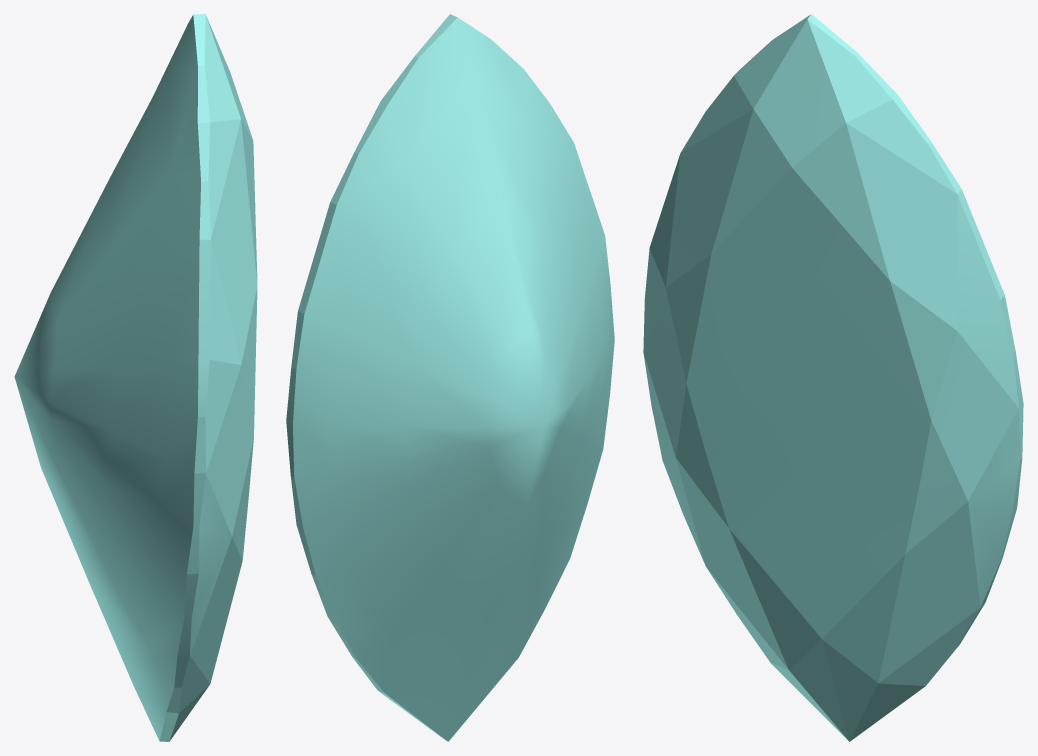
The model's file is BR4_8shapes_Marquise_Classic_Stone.001 3.glb.
The picture shows the model from 3 angles, left to right: view 1: azimuth 30°, elevation 25°; view 2: azimuth 150°, elevation 25°; view 3: azimuth 270°, elevation 25°; orthographic projection. The views are drawn at different scales.
Visible parts, largest first — view 1: BR4_8shapes_Marquise_Classic_Stone.001; view 2: BR4_8shapes_Marquise_Classic_Stone.001; view 3: BR4_8shapes_Marquise_Classic_Stone.001.
Part boxes in pixels (x1,y1,x2,y2): BR4_8shapes_Marquise_Classic_Stone.001: [14, 14, 257, 741]; BR4_8shapes_Marquise_Classic_Stone.001: [286, 14, 614, 741]; BR4_8shapes_Marquise_Classic_Stone.001: [643, 14, 1023, 741].
Size of the model in its own units: 0.2031 by 0.6316 by 0.298.
